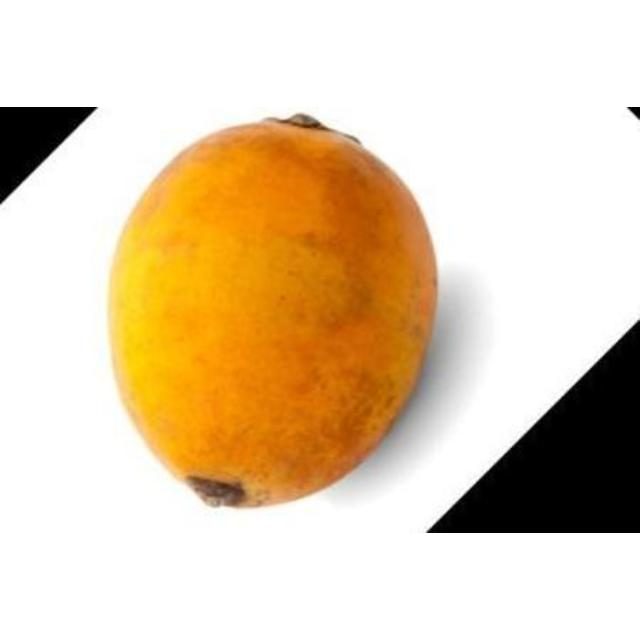good: (104, 116, 438, 511)
